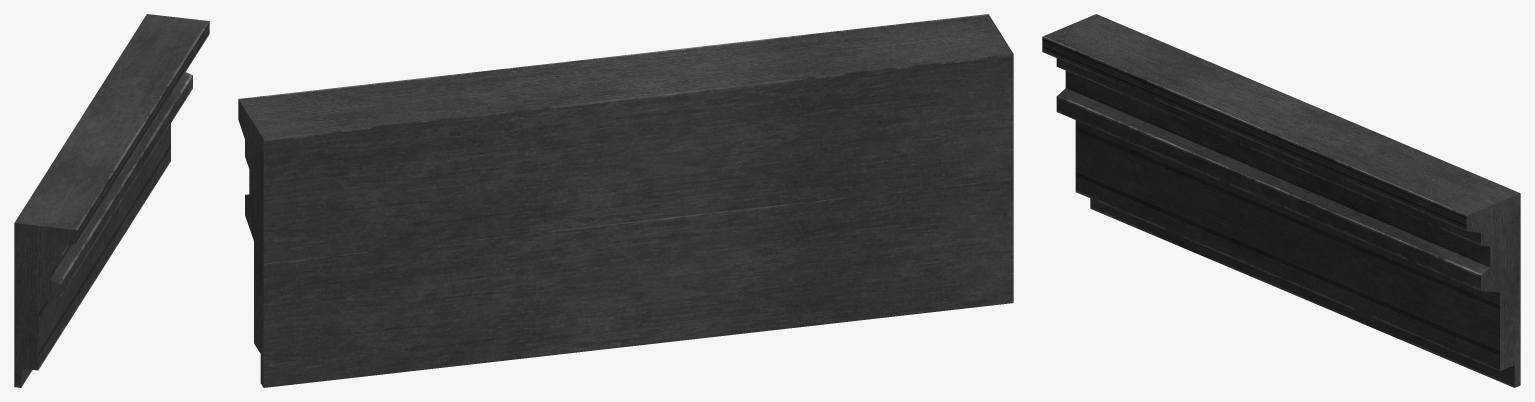
The model's file is House_07_Parapet_03.fbx.
3 views of the same model, side by side, from view 1: azimuth 30°, elevation 25°; view 2: azimuth 150°, elevation 25°; view 3: azimuth 270°, elevation 25° (orthographic). The views are drawn at different scales.
Parts seen in each view (by area): view 1: House_07_Parapet_03; view 2: House_07_Parapet_03; view 3: House_07_Parapet_03.
Boxes of the visible parts, left/top/right/bottom form: House_07_Parapet_03: left=14, top=14, right=209, bottom=387; House_07_Parapet_03: left=238, top=14, right=1013, bottom=387; House_07_Parapet_03: left=1042, top=14, right=1520, bottom=387.
Size of the model in its own units: 225 by 100 by 225.
